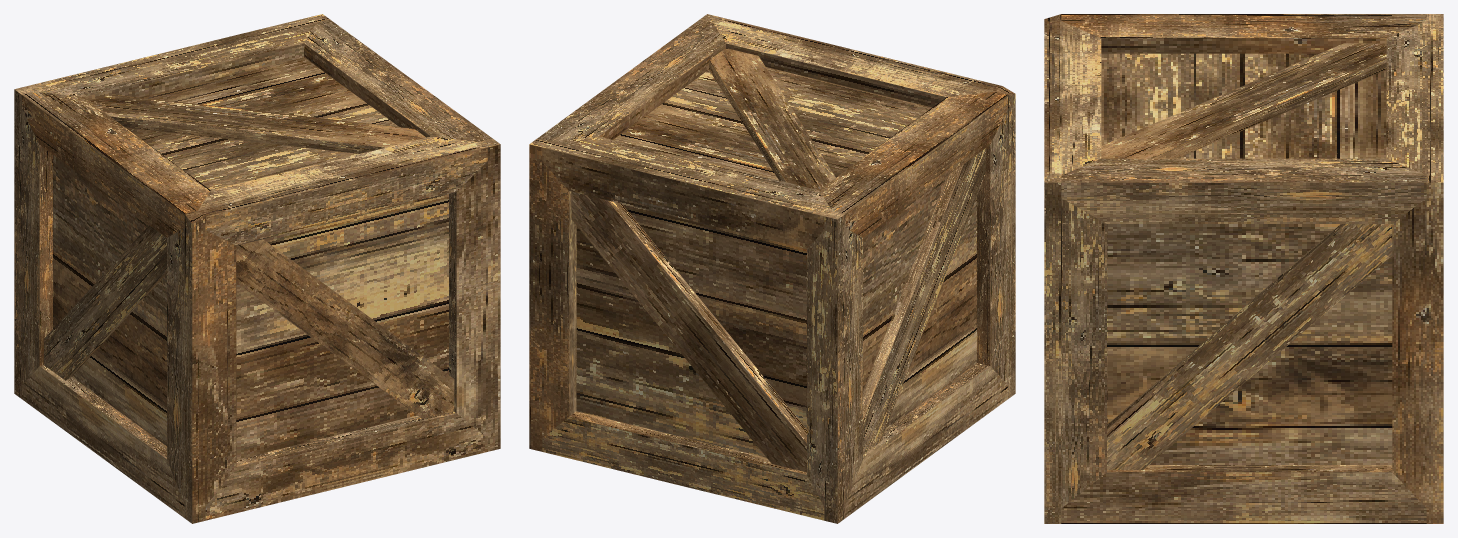
File: psx-inspired_crate.glb
The picture shows the model from 3 angles, left to right: view 1: azimuth 30°, elevation 25°; view 2: azimuth 150°, elevation 25°; view 3: azimuth 270°, elevation 25°; orthographic projection. The views are drawn at different scales.
Parts seen in each view (by area): view 1: crate_0, crossing board_1, crossing board_2, crossing board_6; view 2: crate_0, crossing board_5, crossing board_6, crossing board_2; view 3: crate_0, crossing board_4, crossing board_2.
Boxes of the visible parts, <box> form: crate_0: <box>14,14,500,523</box>; crossing board_1: <box>236,239,454,418</box>; crossing board_2: <box>89,94,425,153</box>; crossing board_6: <box>44,225,166,380</box>; crate_0: <box>529,14,1015,523</box>; crossing board_5: <box>571,191,806,472</box>; crossing board_6: <box>863,148,985,454</box>; crossing board_2: <box>709,48,835,189</box>; crate_0: <box>1044,14,1443,523</box>; crossing board_4: <box>1107,224,1392,469</box>; crossing board_2: <box>1101,43,1386,158</box>.
Bounding box in the file's own units: 1.09 × 1.03 × 1.09.
Materials: 1 (1 with a texture image).
